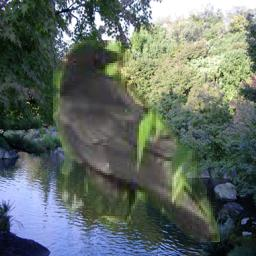Crow: (54, 40, 221, 242)
